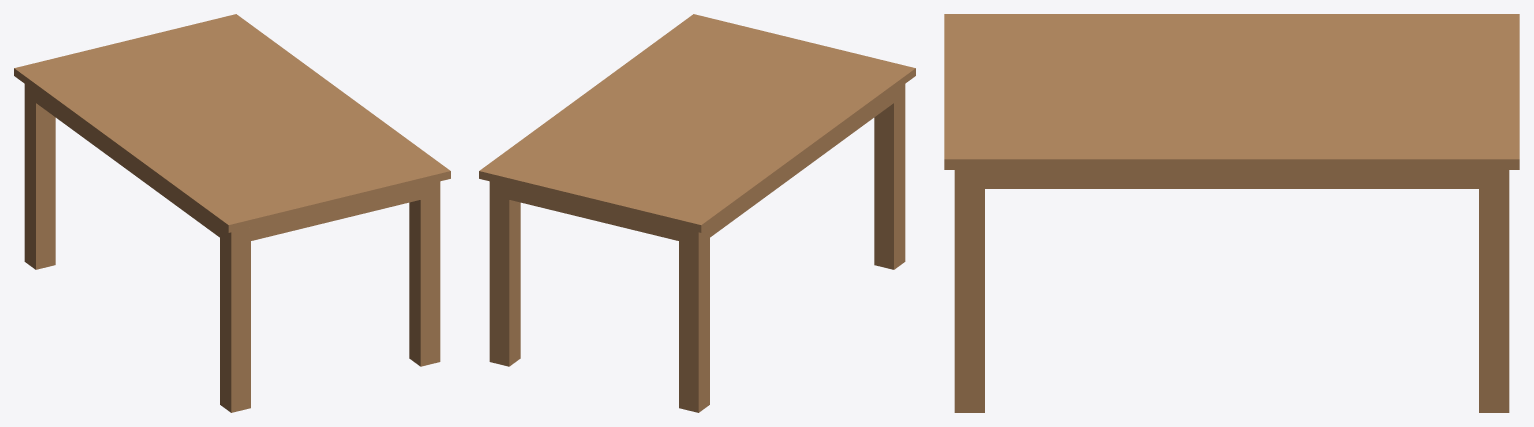
Rendered from tableA.fbx.
The picture shows the model from 3 angles, left to right: view 1: azimuth 30°, elevation 25°; view 2: azimuth 150°, elevation 25°; view 3: azimuth 270°, elevation 25°; orthographic projection. The views are drawn at different scales.
Visible parts, largest first — view 1: tableA; view 2: tableA; view 3: tableA.
Boxes of the visible parts, left/top/right/bottom form: tableA: left=14, top=14, right=450, bottom=412; tableA: left=479, top=14, right=915, bottom=412; tableA: left=944, top=14, right=1519, bottom=412.
Size of the model in its own units: 0.6244 by 0.5161 by 1.04.
